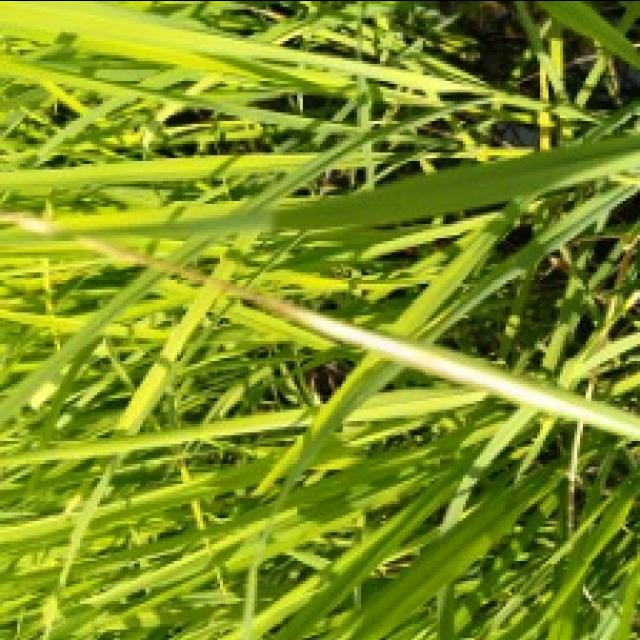Unhealthy: (80, 235, 640, 440)
